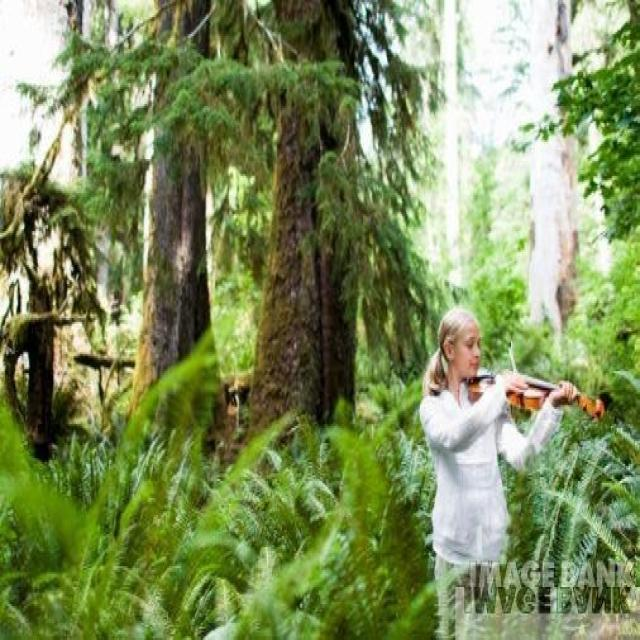violin: (466, 360, 606, 428)
